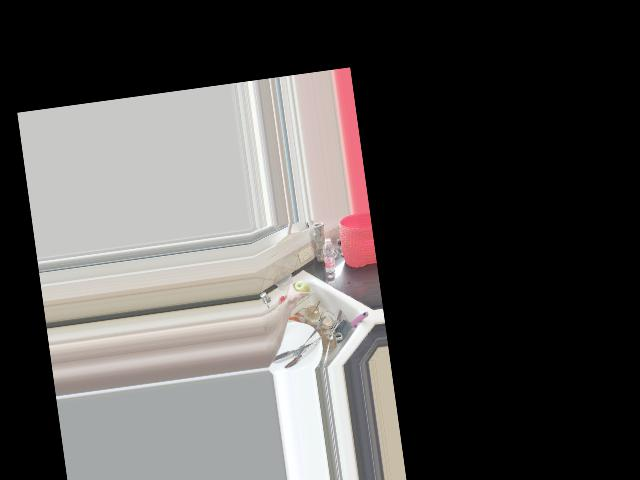apple: (293, 278, 309, 298)
